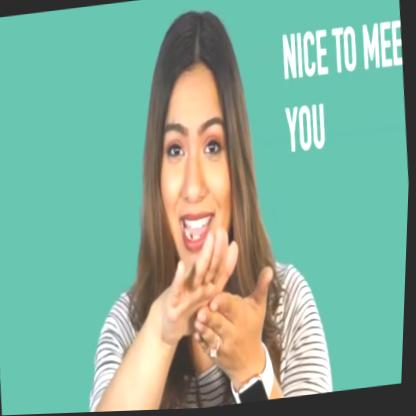NiceToMeetYou: (156, 213, 284, 386)
